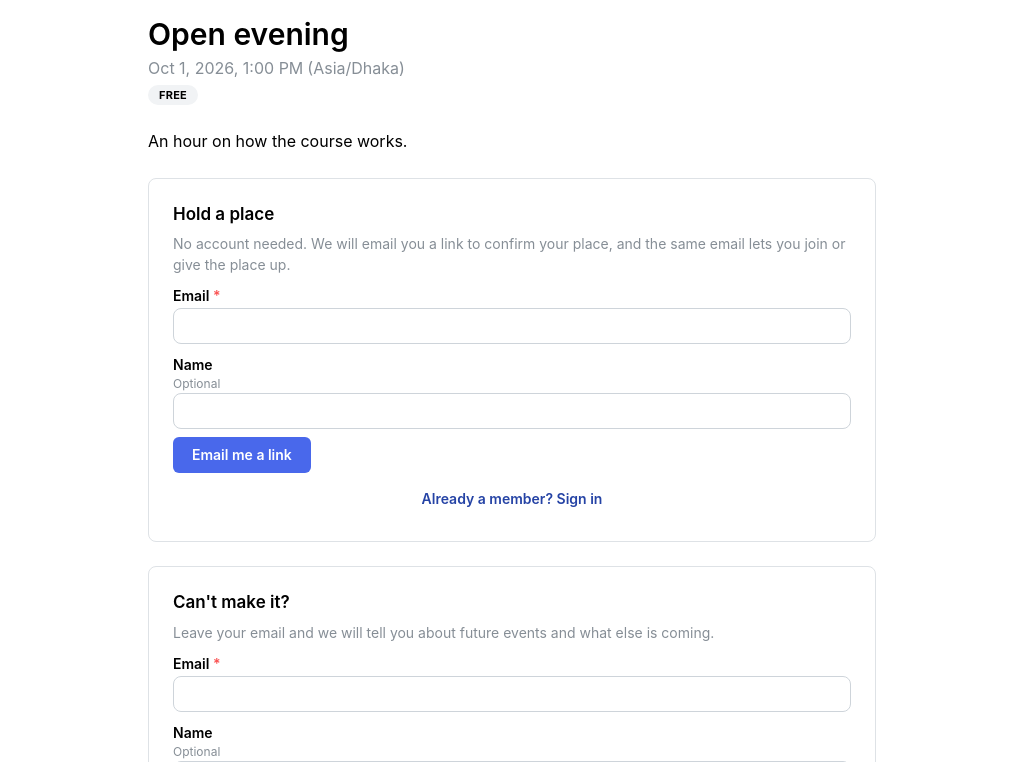
it: PublicWebinarRoute › asks a guest to check their inbox, and says nothing more
Type "ada@example.test" into the field labelled "Email *" below "Hold a place" at x=512, y=326, box [173,308,851,344]
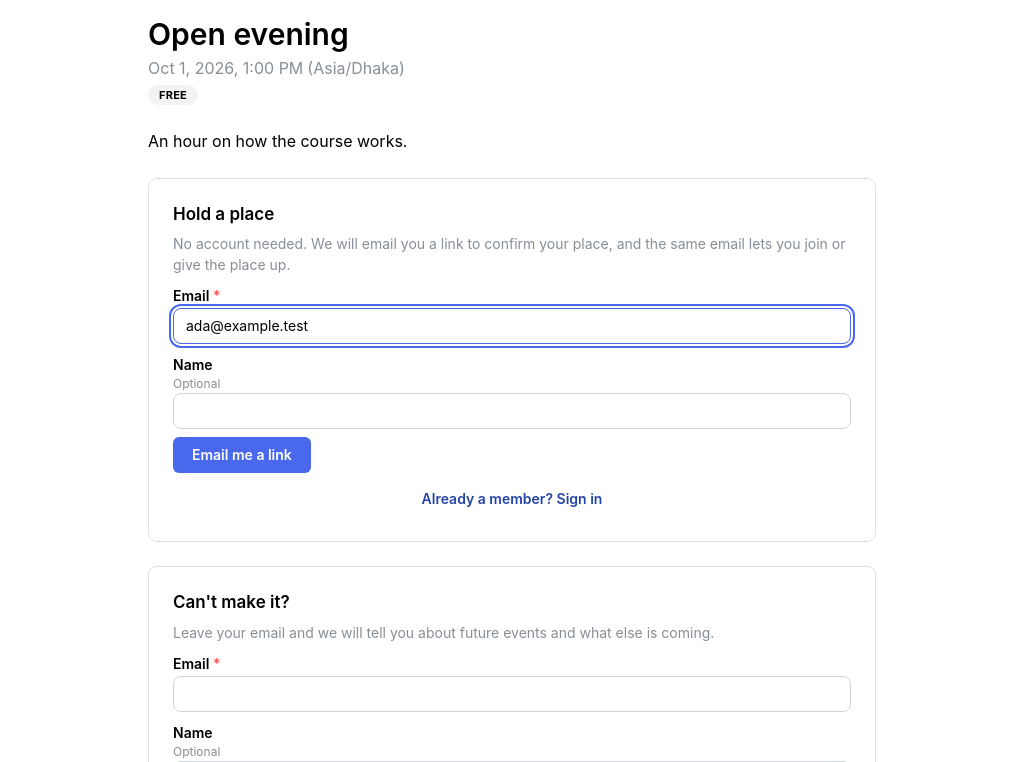
Click the button "Email me a link" at x=242, y=455, box [173,437,311,473]
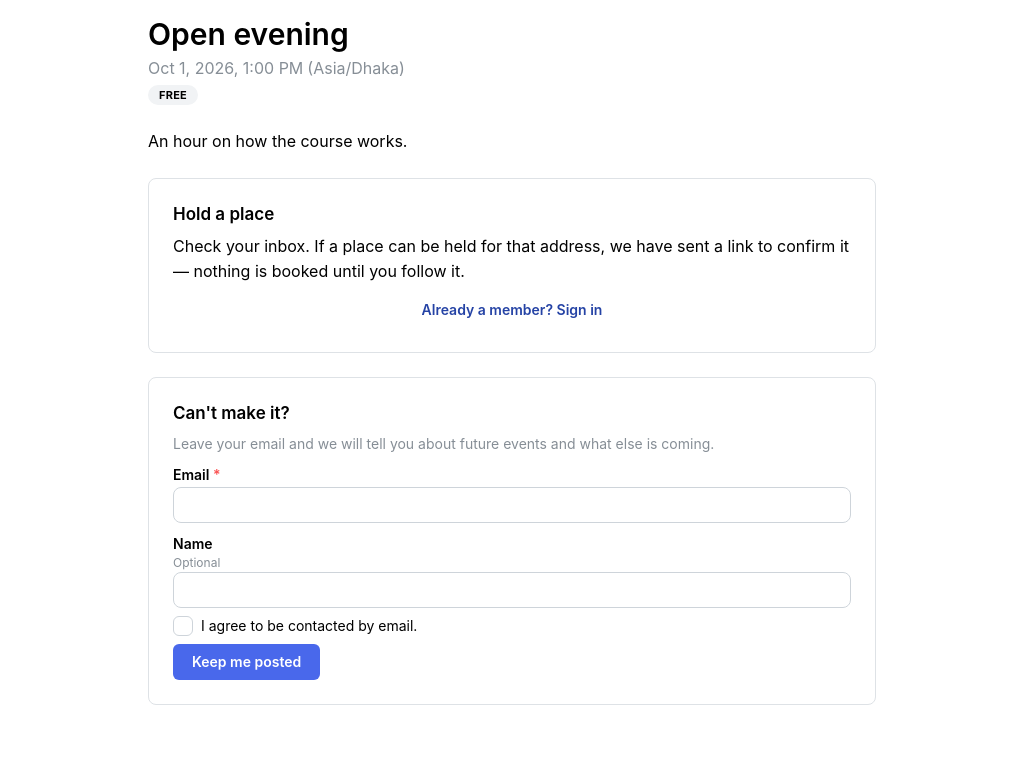
expect the text "Check your inbox" is shown: met, box [173,236,849,281]
